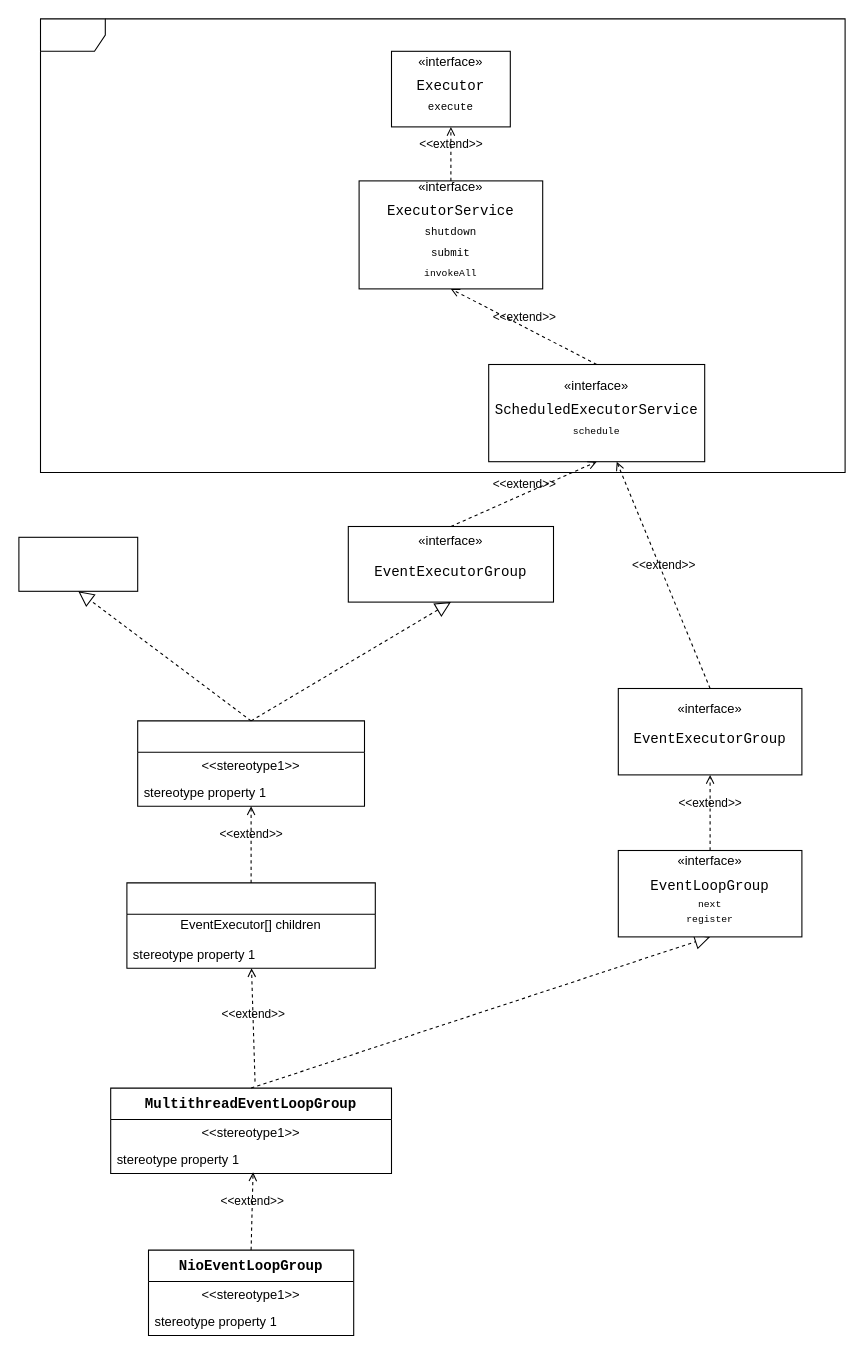
Image size: 864x1354. Some labels were removed from this diagram. The shapes that lost their labels are listed below. From the top down, each one's box as (x1, y1, x2, y2) in pixels, then its label:
(39, 18, 845, 473): JUC
(18, 536, 138, 591): «interface» Iterable
(137, 720, 364, 806): AbstractEventExecutorGroup
(126, 882, 375, 968): MultithreadEventExecutorGroup
